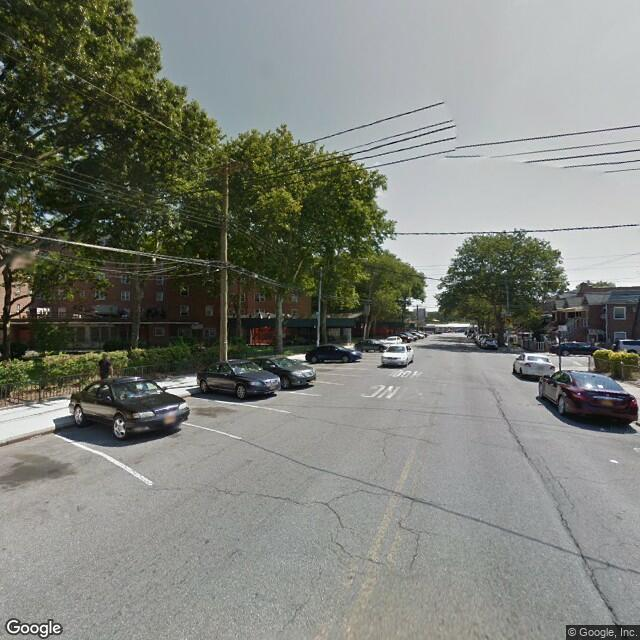litter: (611, 457, 619, 465)
